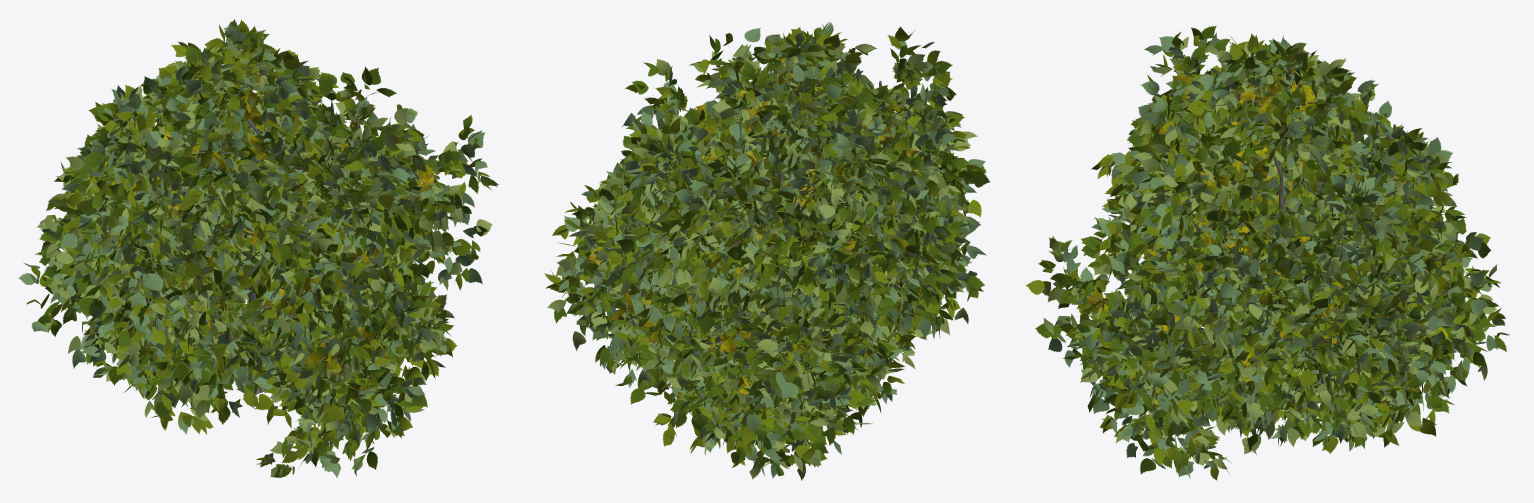
Rendered from plant-0.glb.
The picture shows the model from 3 angles, left to right: view 1: azimuth 30°, elevation 25°; view 2: azimuth 150°, elevation 25°; view 3: azimuth 270°, elevation 25°; orthographic projection.
Parts seen in each view (by area): view 1: Bush 3 (smaller)_Leaf_v2_Mat_0, Bush 3 (smaller)_Leaf_v4_Mat_0, Bush 3 (smaller)_Leaf_Mat_0, Bush 3 (smaller)_Leaf_v3_Mat_0, Bush 3 (smaller)_Leaf2_Mat_0, Bush 3 (smaller)_Bark_Mat_0; view 2: Bush 3 (smaller)_Leaf_Mat_0, Bush 3 (smaller)_Leaf_v2_Mat_0, Bush 3 (smaller)_Leaf_v3_Mat_0, Bush 3 (smaller)_Leaf_v4_Mat_0, Bush 3 (smaller)_Leaf2_Mat_0, Bush 3 (smaller)_Bark_Mat_0; view 3: Bush 3 (smaller)_Leaf_Mat_0, Bush 3 (smaller)_Leaf_v4_Mat_0, Bush 3 (smaller)_Leaf_v2_Mat_0, Bush 3 (smaller)_Leaf_v3_Mat_0, Bush 3 (smaller)_Leaf2_Mat_0, Bush 3 (smaller)_Bark_Mat_0.
Part boxes in pixels (bbox=[...]): Bush 3 (smaller)_Leaf_v2_Mat_0: bbox=[31, 19, 482, 470]; Bush 3 (smaller)_Leaf_v4_Mat_0: bbox=[18, 21, 487, 477]; Bush 3 (smaller)_Leaf_Mat_0: bbox=[26, 22, 498, 477]; Bush 3 (smaller)_Leaf_v3_Mat_0: bbox=[37, 19, 497, 477]; Bush 3 (smaller)_Leaf2_Mat_0: bbox=[87, 40, 435, 426]; Bush 3 (smaller)_Bark_Mat_0: bbox=[47, 64, 473, 436]; Bush 3 (smaller)_Leaf_Mat_0: bbox=[546, 27, 990, 476]; Bush 3 (smaller)_Leaf_v2_Mat_0: bbox=[544, 26, 986, 466]; Bush 3 (smaller)_Leaf_v3_Mat_0: bbox=[547, 22, 983, 480]; Bush 3 (smaller)_Leaf_v4_Mat_0: bbox=[558, 22, 986, 478]; Bush 3 (smaller)_Leaf2_Mat_0: bbox=[588, 58, 946, 444]; Bush 3 (smaller)_Bark_Mat_0: bbox=[570, 52, 965, 437]; Bush 3 (smaller)_Leaf_Mat_0: bbox=[1035, 26, 1506, 474]; Bush 3 (smaller)_Leaf_v4_Mat_0: bbox=[1042, 31, 1498, 478]; Bush 3 (smaller)_Leaf_v2_Mat_0: bbox=[1025, 31, 1505, 480]; Bush 3 (smaller)_Leaf_v3_Mat_0: bbox=[1042, 36, 1509, 469]; Bush 3 (smaller)_Leaf2_Mat_0: bbox=[1085, 62, 1455, 445]; Bush 3 (smaller)_Bark_Mat_0: bbox=[1055, 51, 1466, 452].
Bounding box in the file's own units: 1.08 × 1.1 × 1.15.
6 materials, 6 textured.
